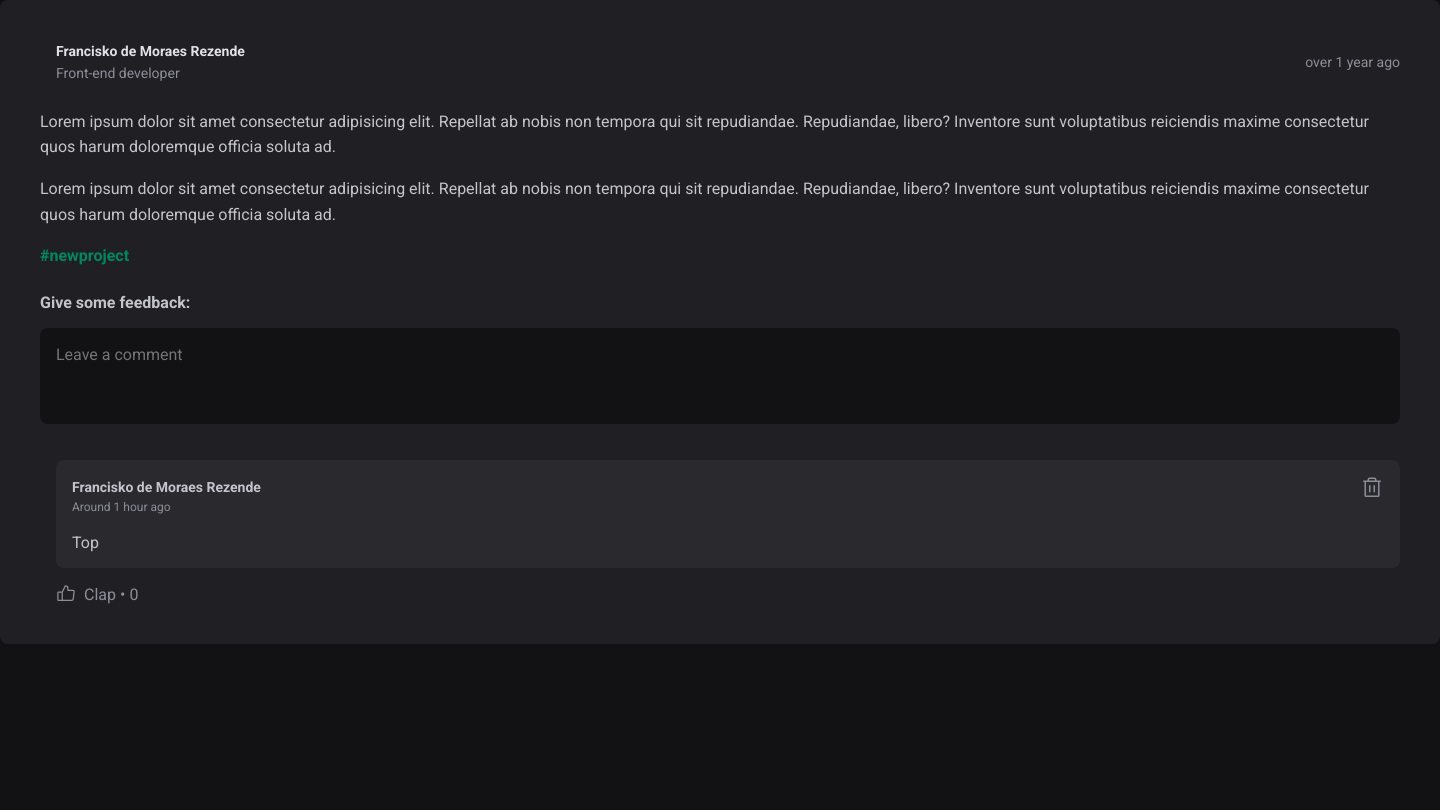
Test: Post › should start with a disabled submit button
Click the text box labelled "Give some feedback:" at (720, 376), box [40,328,1400,424]
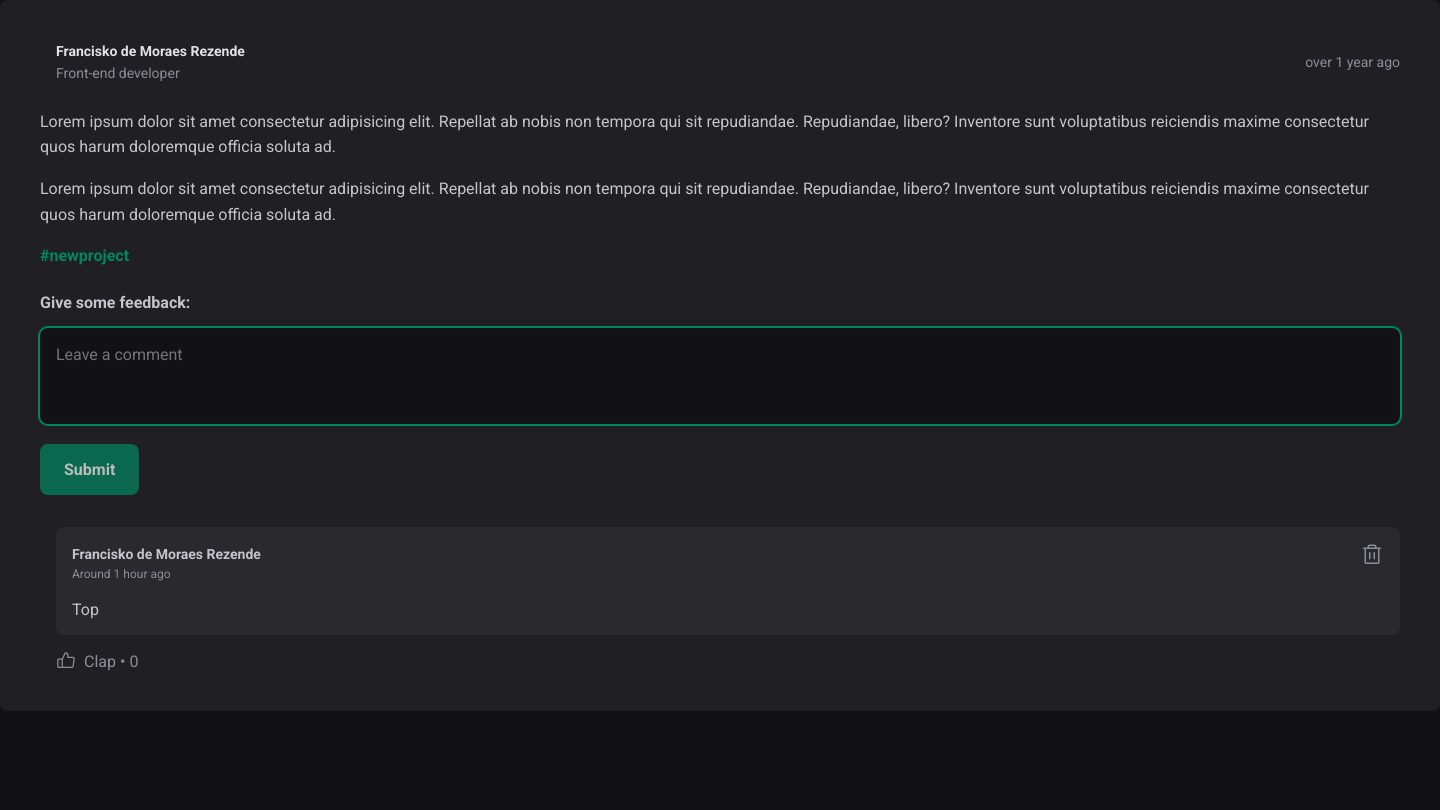
Result: the button "Submit" is disabled at [40,444,139,495]
